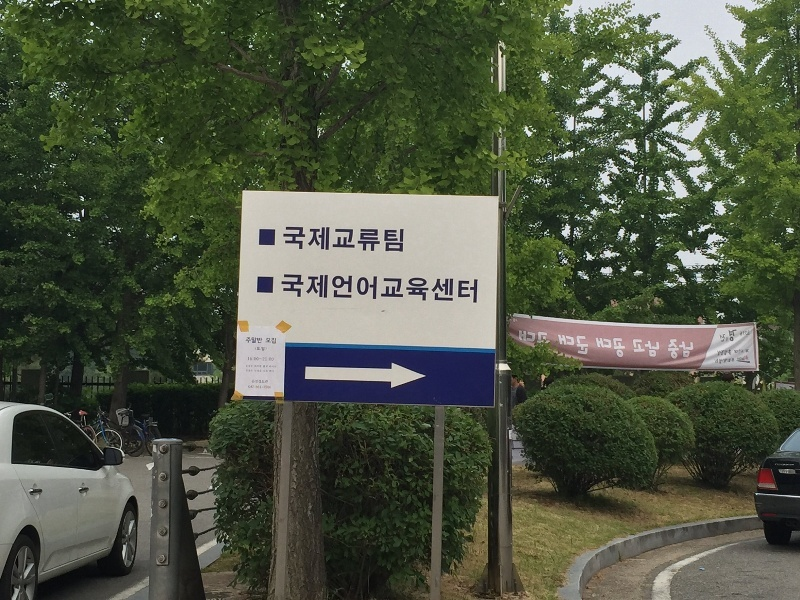text: (289, 274, 304, 303), (305, 274, 320, 303), (321, 274, 336, 303), (337, 274, 352, 303), (353, 274, 368, 303), (289, 226, 304, 253), (305, 226, 320, 253), (321, 226, 336, 253), (337, 226, 352, 253), (353, 226, 368, 253), (369, 226, 384, 253), (385, 226, 400, 253), (385, 277, 400, 304), (401, 277, 416, 304), (417, 277, 432, 304), (433, 277, 448, 304), (449, 277, 464, 304), (561, 332, 576, 359), (577, 332, 592, 359), (673, 337, 688, 363), (593, 336, 608, 360), (609, 336, 624, 360), (465, 277, 478, 304), (641, 338, 656, 361), (529, 329, 544, 349), (369, 274, 379, 303), (721, 327, 736, 344), (630, 338, 640, 361), (281, 274, 288, 303), (518, 329, 528, 349), (665, 337, 672, 363), (657, 338, 664, 361), (689, 337, 695, 363), (545, 329, 552, 349), (283, 226, 288, 253), (721, 348, 736, 357), (257, 365, 272, 373), (737, 354, 752, 362), (737, 348, 750, 357), (721, 357, 735, 365), (401, 226, 405, 253), (556, 332, 560, 359), (739, 330, 752, 337), (257, 357, 272, 362), (257, 385, 272, 390), (247, 365, 256, 373), (625, 336, 628, 360), (247, 337, 256, 344), (257, 379, 268, 384), (785, 469, 796, 474), (257, 346, 267, 351), (714, 357, 720, 365), (257, 337, 263, 344), (248, 357, 256, 362), (273, 365, 278, 373), (248, 385, 256, 390), (774, 463, 784, 467), (785, 463, 795, 467), (267, 338, 272, 345), (718, 327, 720, 344), (778, 469, 784, 474), (273, 338, 277, 345), (717, 348, 720, 357), (252, 379, 256, 384), (737, 327, 738, 344), (255, 346, 256, 351), (273, 357, 274, 362)
